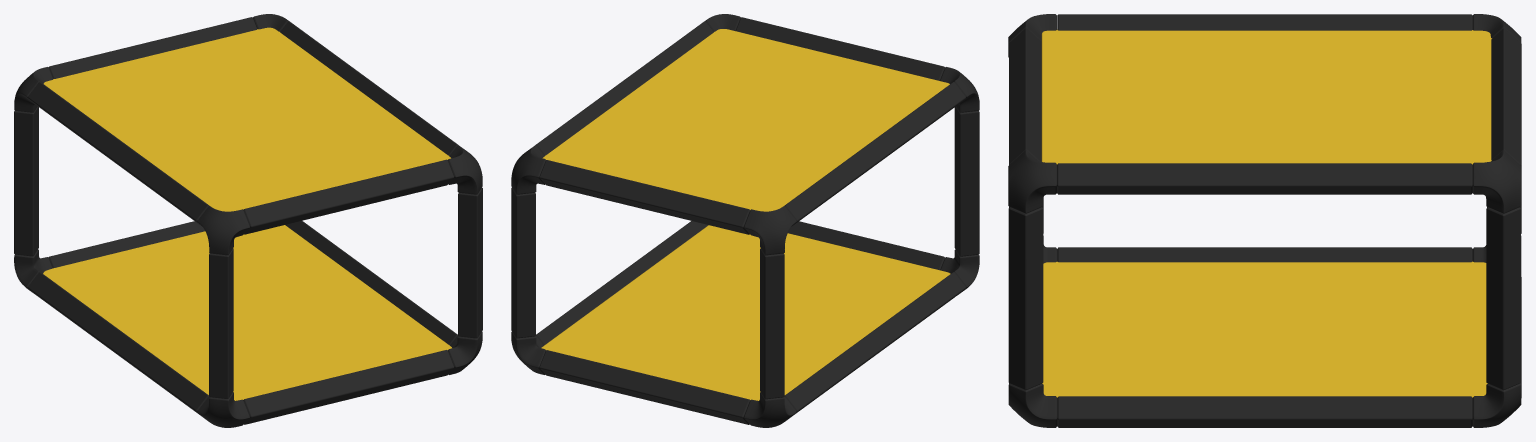
3 renders of one model, left to right at view 1: azimuth 30°, elevation 25°; view 2: azimuth 150°, elevation 25°; view 3: azimuth 270°, elevation 25°, orthographic. The views are drawn at different scales.
Visible parts, largest first — view 1: 229x329x154; view 2: 229x329x154; view 3: 229x329x154.
Part boxes in pixels (box(x1,y1,x2,y2)): 229x329x154: box(14, 14, 482, 427); 229x329x154: box(511, 14, 979, 427); 229x329x154: box(1008, 14, 1521, 427).
Size of the model in its own units: 0.3067 by 0.2316 by 0.4063.
